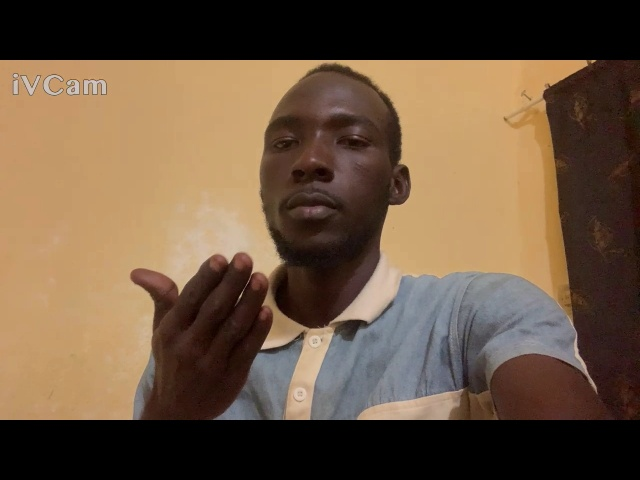merci: (125, 246, 292, 421)
